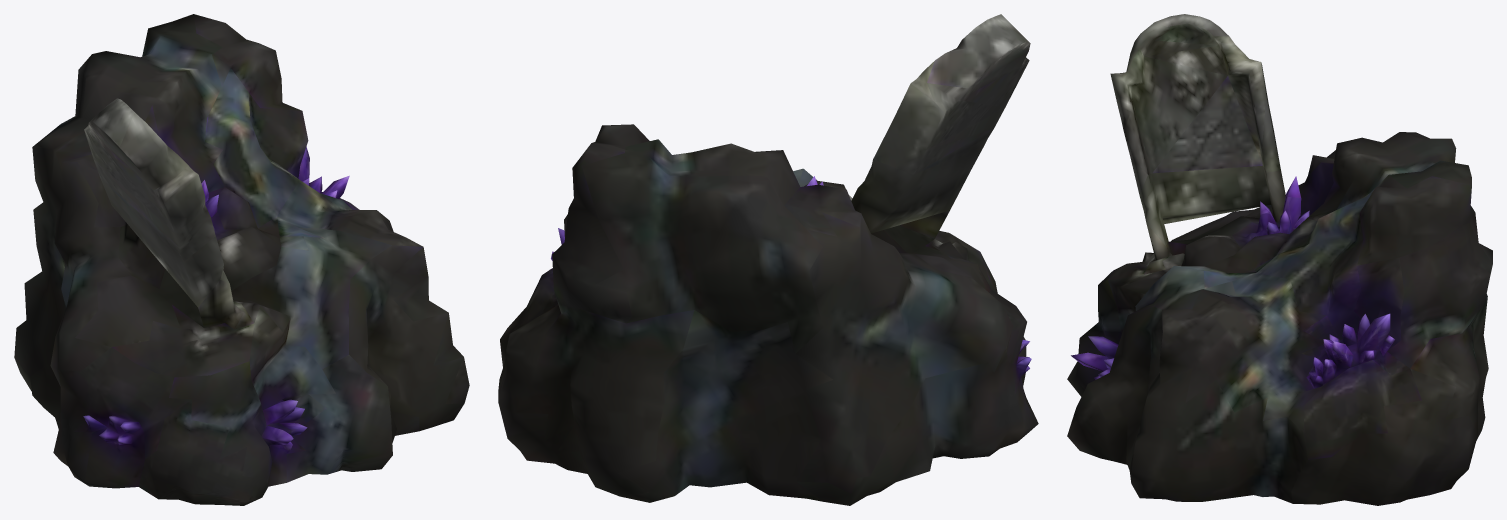
Rendered from prop_node_ore_seam_steel.glb.
3 views of the same model, side by side, from view 1: azimuth 30°, elevation 25°; view 2: azimuth 150°, elevation 25°; view 3: azimuth 270°, elevation 25° (orthographic). The views are drawn at different scales.
Parts seen in each view (by area): view 1: tripo_node_0bf5bb75-011f-4941-bb16-5c0978e515fd; view 2: tripo_node_0bf5bb75-011f-4941-bb16-5c0978e515fd; view 3: tripo_node_0bf5bb75-011f-4941-bb16-5c0978e515fd.
Part boxes in pixels (x1,y1,x2,y2): tripo_node_0bf5bb75-011f-4941-bb16-5c0978e515fd: [14, 14, 469, 505]; tripo_node_0bf5bb75-011f-4941-bb16-5c0978e515fd: [498, 14, 1038, 505]; tripo_node_0bf5bb75-011f-4941-bb16-5c0978e515fd: [1067, 14, 1492, 505].
Size of the model in its own units: 0.9786 by 0.8964 by 0.998.
1 material, 1 textured.
